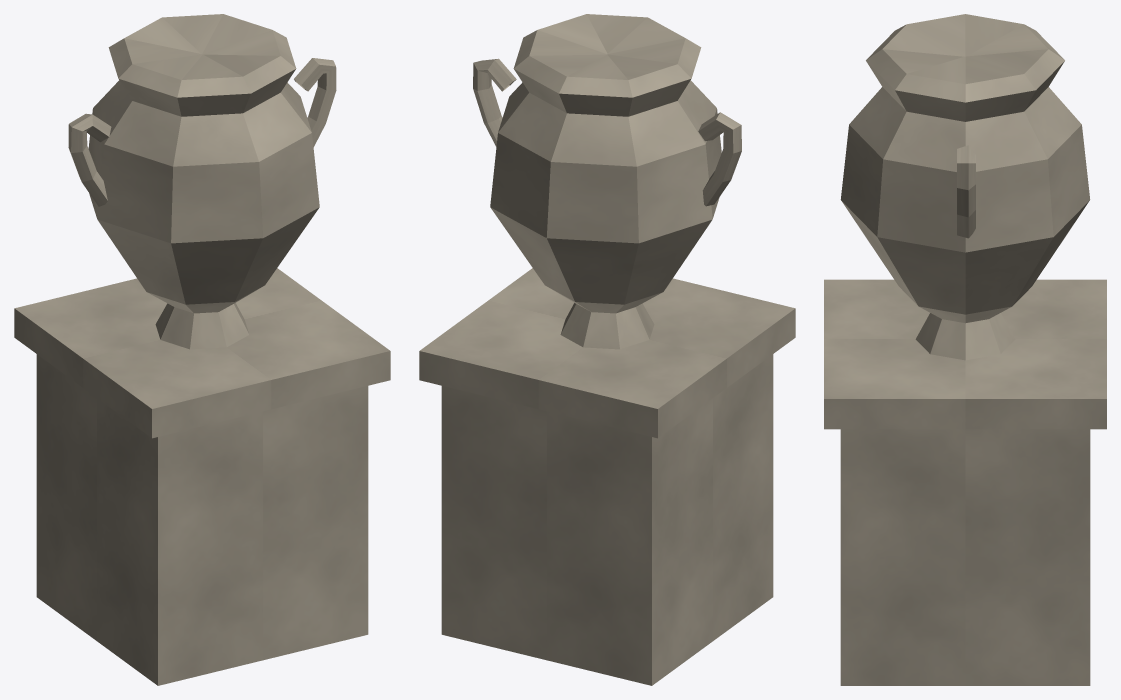
Rendered from Urn_Stone_1_LOD1.gltf.
The picture shows the model from 3 angles, left to right: view 1: azimuth 30°, elevation 25°; view 2: azimuth 150°, elevation 25°; view 3: azimuth 270°, elevation 25°; orthographic projection. The views are drawn at different scales.
Parts seen in each view (by area): view 1: Urn_Stone_1_LOD1; view 2: Urn_Stone_1_LOD1; view 3: Urn_Stone_1_LOD1.
Boxes of the visible parts, x1,y1,x2,y2 form: Urn_Stone_1_LOD1: (14, 14, 390, 685); Urn_Stone_1_LOD1: (419, 14, 795, 685); Urn_Stone_1_LOD1: (824, 14, 1106, 685).
Bounding box in the file's own units: 0.7587 × 1.55 × 0.68.
Materials: 1 (1 with a texture image).
